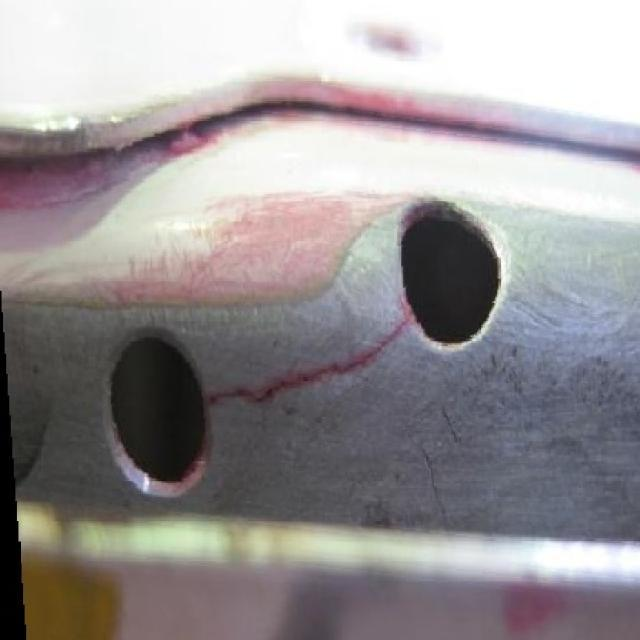crack: (286, 358, 366, 383), (366, 316, 412, 358), (209, 383, 286, 408)
